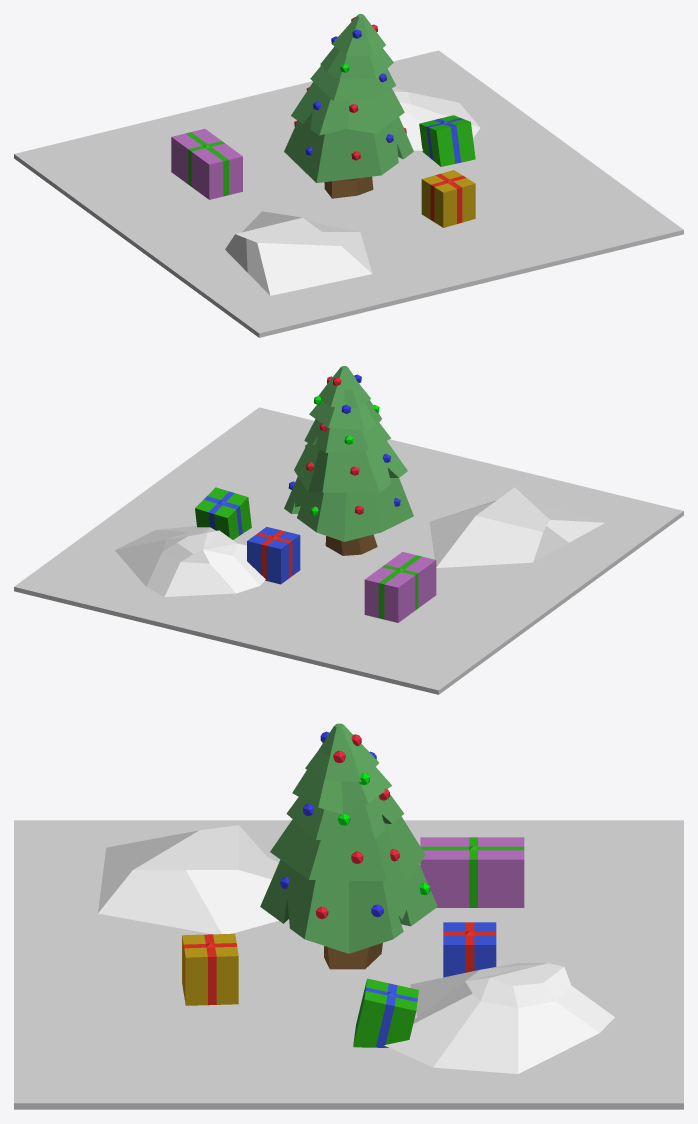
File: tree.glb
3 renders of one model, top to bottom at view 1: azimuth 30°, elevation 25°; view 2: azimuth 150°, elevation 25°; view 3: azimuth 270°, elevation 25°, orthographic. The views are drawn at different scales.
Parts seen in each view (by area): view 1: Plane, Cube.003, Cylinder.001, Cube.004, Cylinder.002, Cube.001, Cube.002, Cylinder.006, Cylinder.003, Cylinder.004, Cylinder.005, Cylinder; view 2: Plane, Cube.003, Cylinder.006, Cylinder.001, Cylinder.002, Cube.004, Cube, Cube.002, Cylinder.003, Cylinder.004, Cylinder.005, Cylinder; view 3: Plane, Cylinder.006, Cube.003, Cylinder.001, Cube.004, Cylinder.002, Cube.001, Cube.002, Cylinder.003, Cube, Cylinder.004, Cylinder.005 (+1 smaller).
Part boxes in pixels (<box>): Plane: <box>14,50,683,337</box>; Cube.003: <box>225,211,372,295</box>; Cylinder.001: <box>284,117,413,182</box>; Cube.004: <box>171,129,242,199</box>; Cylinder.002: <box>291,82,404,135</box>; Cube.001: <box>421,170,475,227</box>; Cube.002: <box>419,115,475,166</box>; Cylinder.006: <box>392,87,480,150</box>; Cylinder.003: <box>310,65,395,101</box>; Cylinder.004: <box>321,46,393,79</box>; Cylinder.005: <box>332,14,385,56</box>; Cylinder: <box>324,176,373,198</box>; Plane: <box>14,407,683,694</box>; Cube.003: <box>429,487,604,567</box>; Cylinder.006: <box>115,526,265,596</box>; Cylinder.001: <box>284,476,413,541</box>; Cylinder.002: <box>294,441,407,492</box>; Cube.004: <box>364,552,436,622</box>; Cube: <box>247,527,300,584</box>; Cube.002: <box>195,487,251,539</box>; Cylinder.003: <box>304,419,391,452</box>; Cylinder.004: <box>309,400,381,429</box>; Cylinder.005: <box>318,366,370,409</box>; Cylinder: <box>325,534,377,555</box>; Plane: <box>14,820,683,1109</box>; Cylinder.006: <box>384,963,614,1073</box>; Cube.003: <box>98,825,278,934</box>; Cylinder.001: <box>260,859,437,953</box>; Cube.004: <box>420,837,524,907</box>; Cylinder.002: <box>270,816,425,883</box>; Cube.001: <box>182,933,238,1005</box>; Cube.002: <box>353,978,418,1047</box>; Cylinder.003: <box>286,794,404,839</box>; Cube: <box>443,922,496,977</box>; Cylinder.004: <box>292,767,391,814</box>; Cylinder.005: <box>305,723,378,781</box>.
Bounding box in the file's own units: 12.6 × 5.26 × 12.6.
